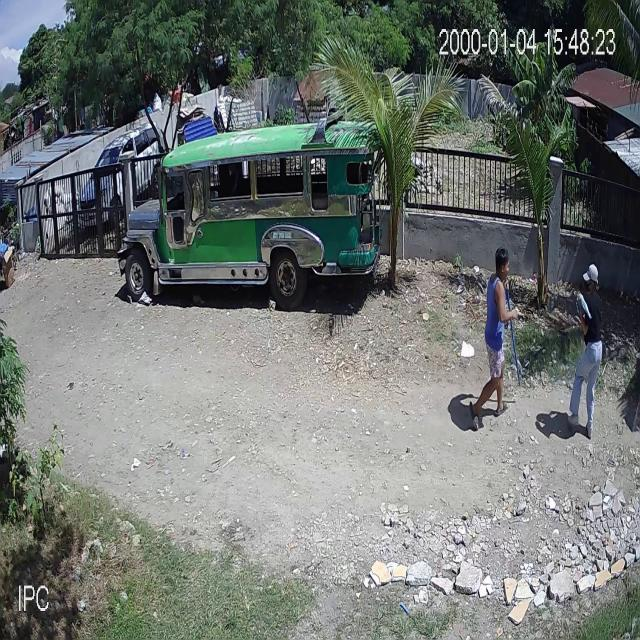running: (469, 248, 520, 432), (566, 264, 602, 434)
